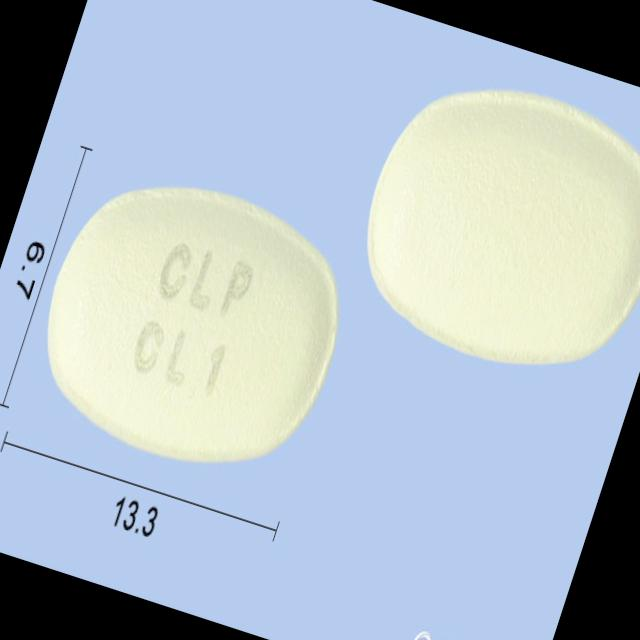Celltrion Clarithromycin - 500mg: (11, 147, 373, 503)
